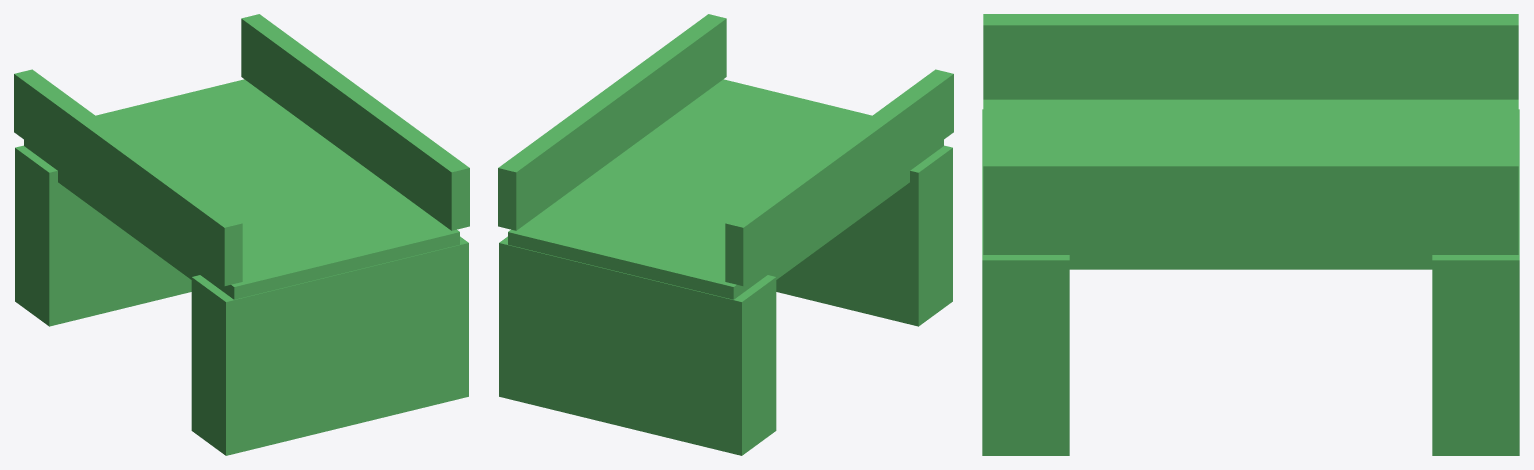
The model's file is bridge_stone_6x4m_collision.glb.
3 views of the same model, side by side, from view 1: azimuth 30°, elevation 25°; view 2: azimuth 150°, elevation 25°; view 3: azimuth 270°, elevation 25° (orthographic). The views are drawn at different scales.
Parts seen in each view (by area): view 1: bridge_stone_6x4m_abutment_a-col, bridge_stone_6x4m_deck-col, bridge_stone_6x4m_abutment_b-col, bridge_stone_6x4m_left_parapet-col, bridge_stone_6x4m_right_parapet-col; view 2: bridge_stone_6x4m_abutment_b-col, bridge_stone_6x4m_deck-col, bridge_stone_6x4m_abutment_a-col, bridge_stone_6x4m_left_parapet-col, bridge_stone_6x4m_right_parapet-col; view 3: bridge_stone_6x4m_left_parapet-col, bridge_stone_6x4m_right_parapet-col, bridge_stone_6x4m_deck-col, bridge_stone_6x4m_abutment_a-col, bridge_stone_6x4m_abutment_b-col.
Boxes of the visible parts, left/top/right/bottom form: bridge_stone_6x4m_abutment_a-col: left=191, top=236, right=468, bottom=455; bridge_stone_6x4m_deck-col: left=24, top=79, right=459, bottom=299; bridge_stone_6x4m_abutment_b-col: left=15, top=145, right=191, bottom=326; bridge_stone_6x4m_left_parapet-col: left=14, top=69, right=242, bottom=286; bridge_stone_6x4m_right_parapet-col: left=241, top=14, right=469, bottom=230; bridge_stone_6x4m_abutment_b-col: left=499, top=236, right=776, bottom=455; bridge_stone_6x4m_deck-col: left=508, top=79, right=943, bottom=299; bridge_stone_6x4m_abutment_a-col: left=776, top=145, right=952, bottom=326; bridge_stone_6x4m_left_parapet-col: left=725, top=69, right=953, bottom=286; bridge_stone_6x4m_right_parapet-col: left=498, top=14, right=726, bottom=230; bridge_stone_6x4m_left_parapet-col: left=983, top=14, right=1518, bottom=99; bridge_stone_6x4m_right_parapet-col: left=983, top=155, right=1518, bottom=240; bridge_stone_6x4m_deck-col: left=983, top=99, right=1518, bottom=269; bridge_stone_6x4m_abutment_a-col: left=982, top=109, right=1069, bottom=455; bridge_stone_6x4m_abutment_b-col: left=1432, top=109, right=1519, bottom=455.
Bounding box in the file's own units: 4.04 × 3.59 × 6.02.
